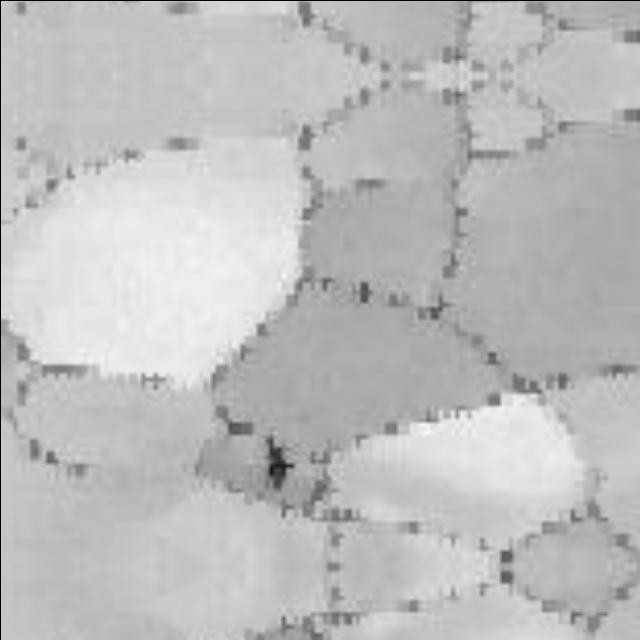good_void: (238, 428, 303, 495)
